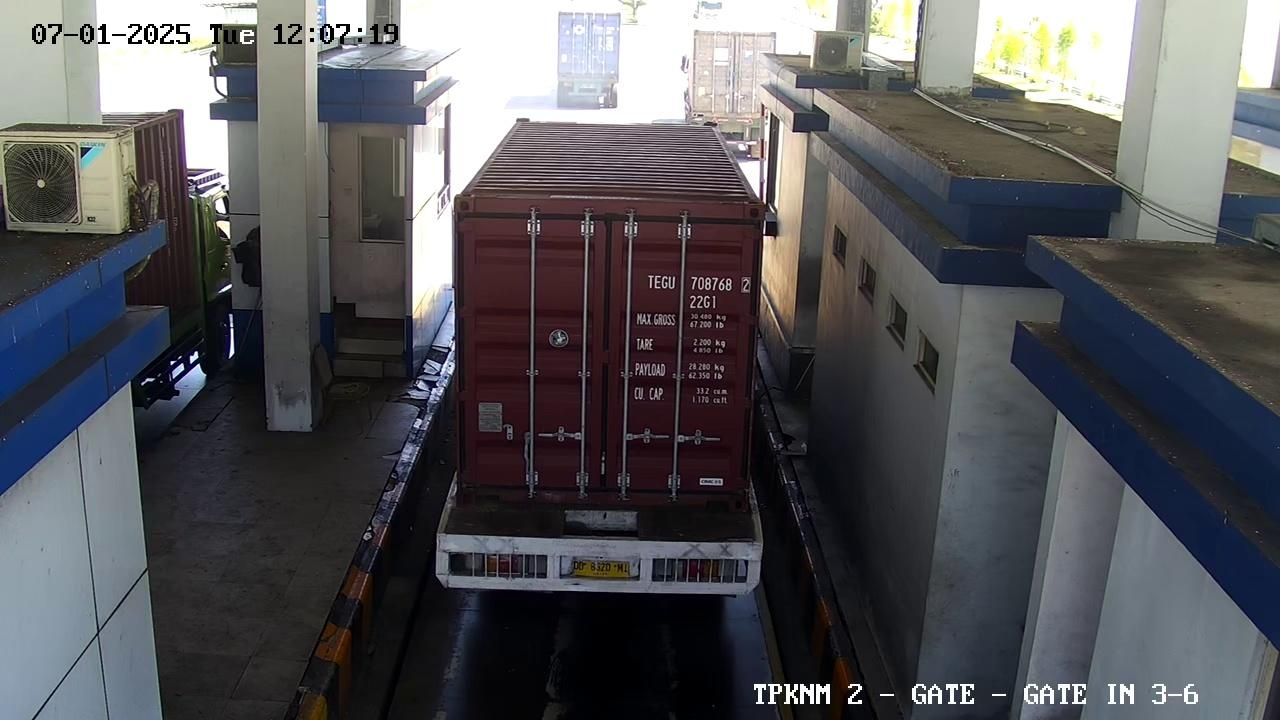Container_ID: (634, 268, 761, 315)
plate_number: (561, 555, 633, 582)
